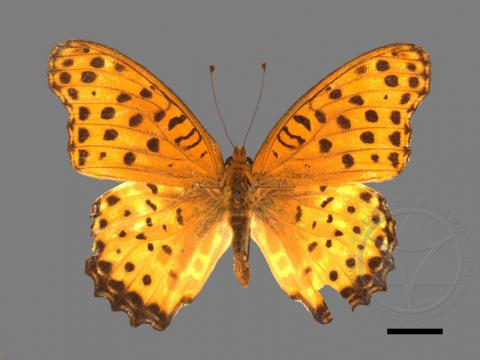Argyreus hyperbius: (45, 33, 430, 332)
butterfly: (47, 35, 432, 334)
